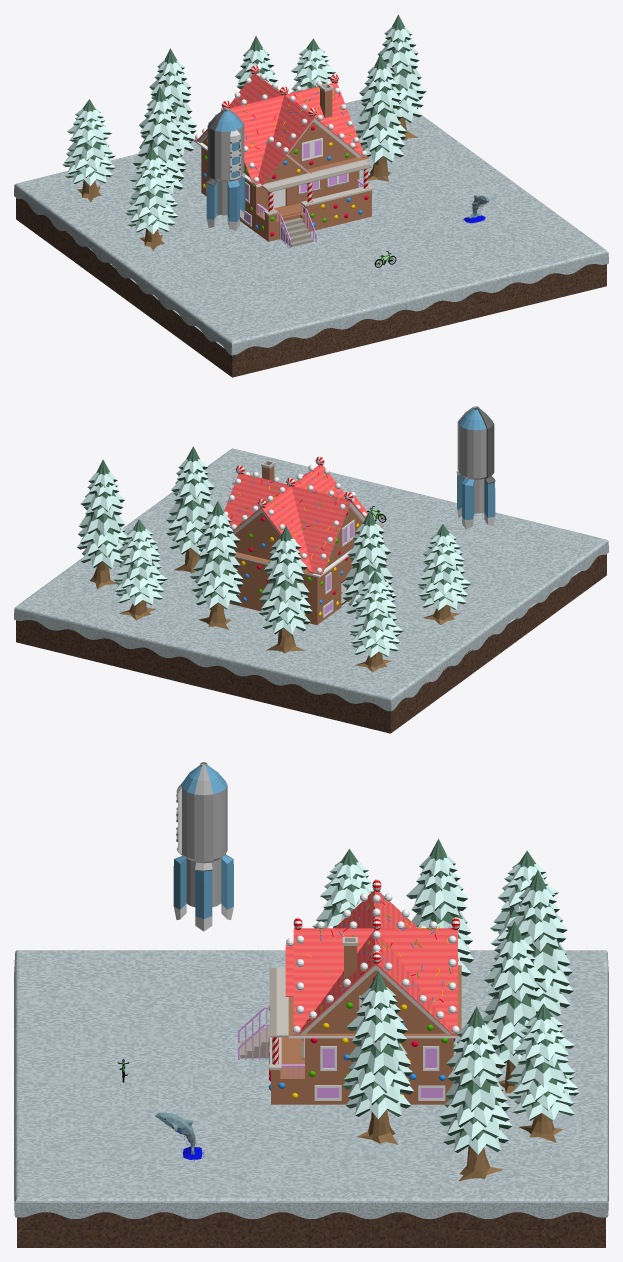
3 renders of one model, top to bottom at view 1: azimuth 30°, elevation 25°; view 2: azimuth 150°, elevation 25°; view 3: azimuth 270°, elevation 25°, orthographic. The views are drawn at different scales.
Visible parts, largest first — view 1: Cube.003, Cube.1203, OBJRANDOM_ROCKETSHIP; view 2: Cube.003, Cube.1203, OBJRANDOM_ROCKETSHIP; view 3: Cube.003, Cube.1203, OBJRANDOM_ROCKETSHIP, ANIMAL_DELFIN.
Boxes of the visible parts, left/top/right/bottom form: Cube.003: left=14, top=14, right=608, bottom=377; Cube.1203: left=193, top=65, right=374, bottom=248; OBJRANDOM_ROCKETSHIP: left=206, top=108, right=245, bottom=231; Cube.003: left=14, top=446, right=608, bottom=733; Cube.1203: left=224, top=456, right=386, bottom=624; OBJRANDOM_ROCKETSHIP: left=456, top=406, right=495, bottom=529; Cube.003: left=14, top=839, right=608, bottom=1247; Cube.1203: left=238, top=879, right=461, bottom=1104; OBJRANDOM_ROCKETSHIP: left=173, top=762, right=233, bottom=931; ANIMAL_DELFIN: left=155, top=1112, right=204, bottom=1160.
Size of the model in its own units: 4040 by 2124 by 4040.
Materials: 38 (4 with a texture image).
